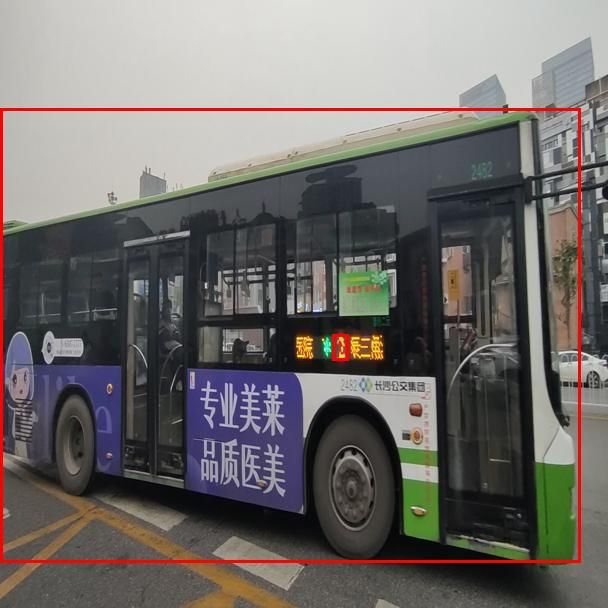bus: (0, 108, 580, 562)
screen: (332, 334, 348, 360)
